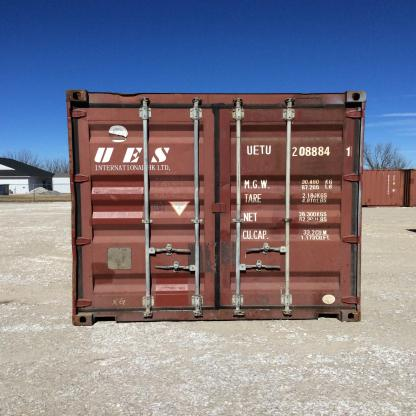Damage: (289, 135, 347, 196), (288, 89, 340, 108), (96, 120, 136, 143), (107, 88, 156, 106), (157, 276, 190, 296), (214, 168, 236, 196), (101, 189, 133, 206)
